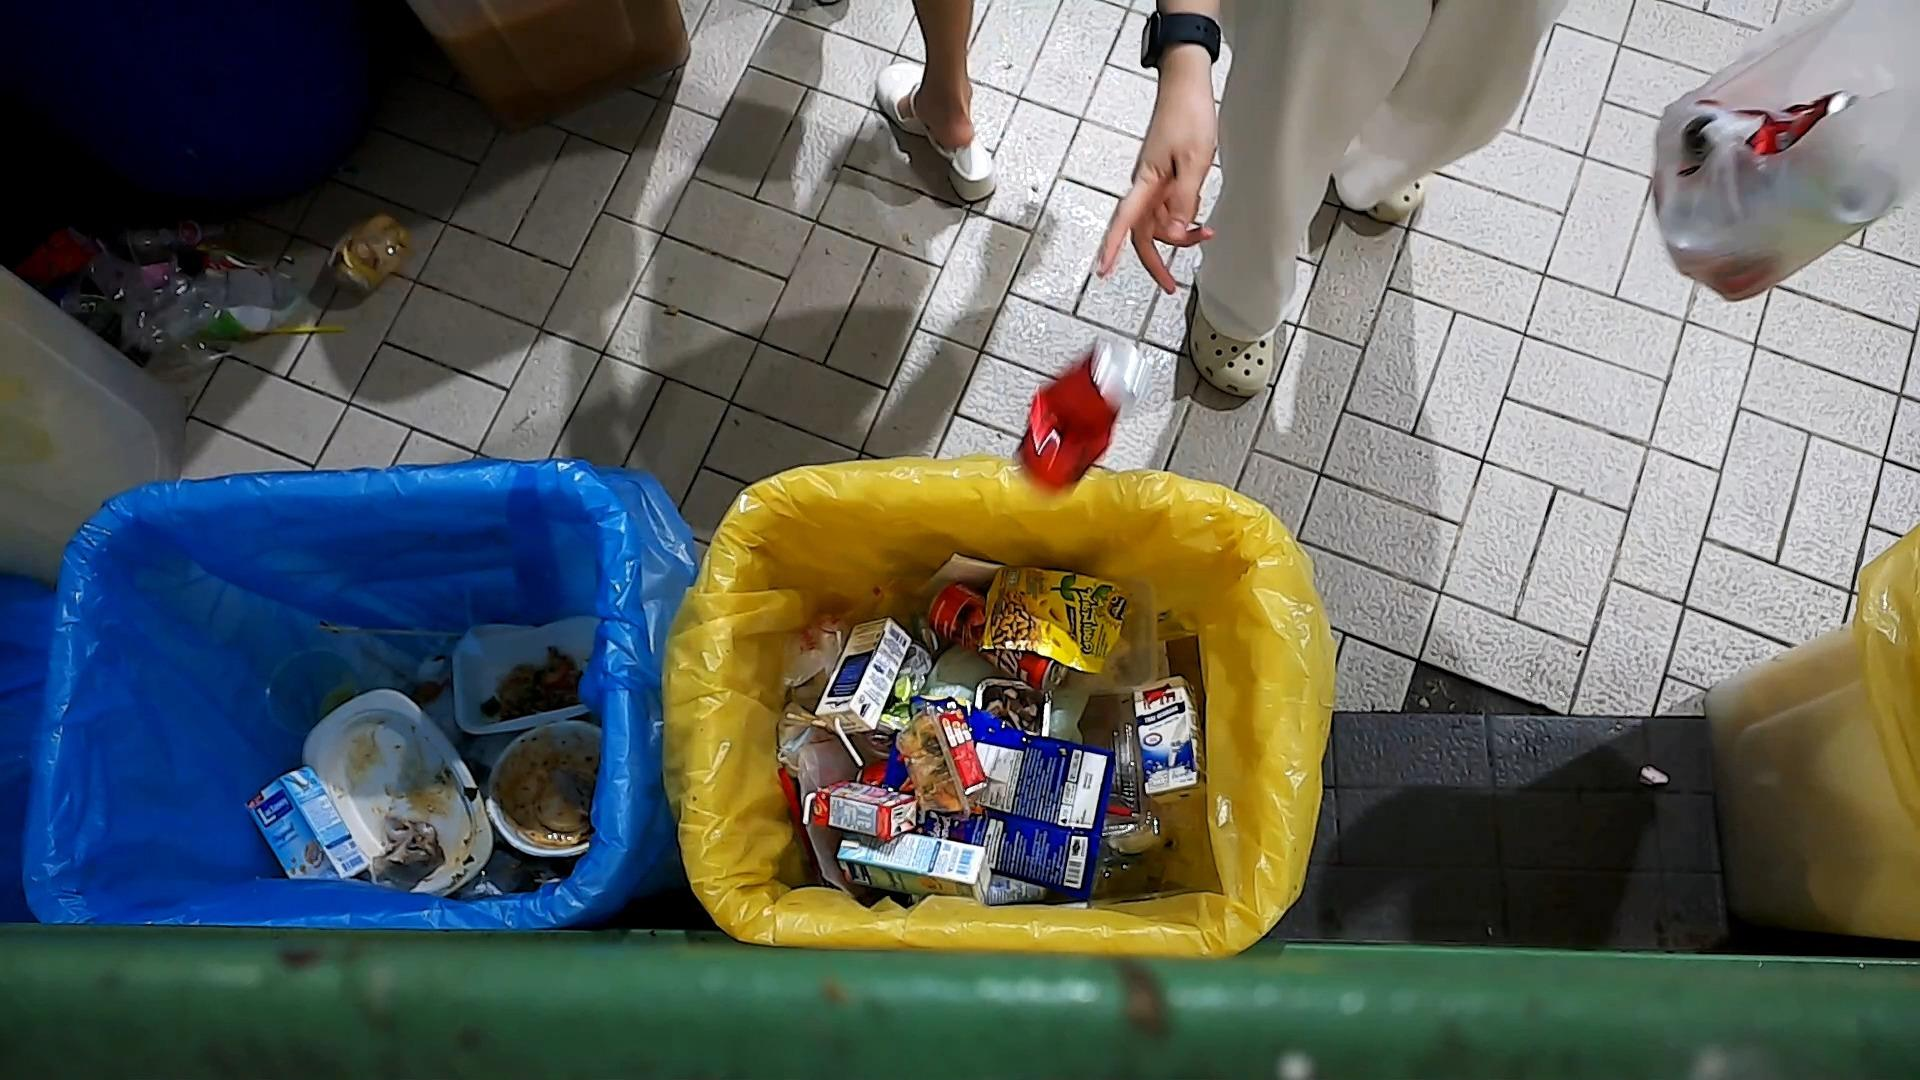can: (1011, 331, 1153, 495), (928, 574, 1067, 698), (861, 642, 935, 761)
dirty food container: (301, 678, 487, 897), (481, 721, 608, 870), (447, 615, 597, 736), (894, 702, 988, 818)
filled plastic bag: (1650, 0, 1920, 299)
milk carton: (244, 769, 365, 882), (814, 622, 910, 765), (847, 829, 1007, 905), (1130, 673, 1208, 799), (810, 779, 928, 855)
snack packaging: (874, 705, 1100, 897), (986, 562, 1134, 667)
